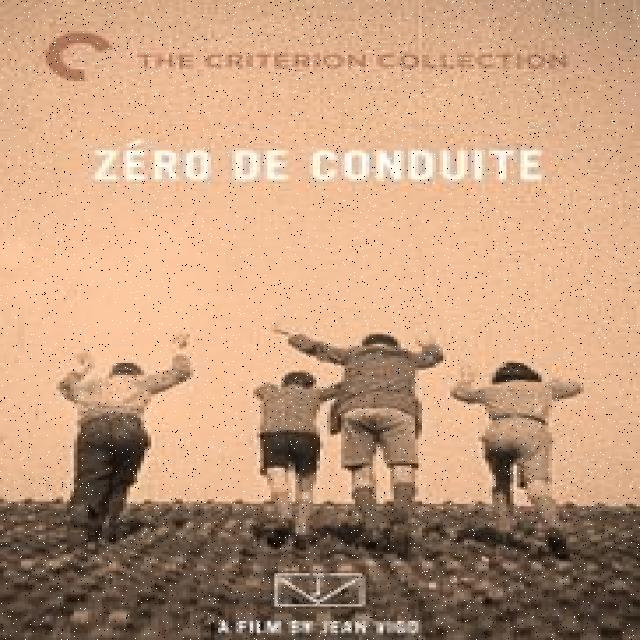movie-judul: (85, 133, 564, 192)
picture: (2, 323, 640, 566)
